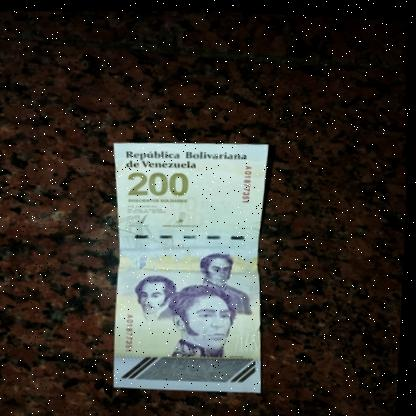two_hundred-front-vef: (103, 133, 283, 399)
